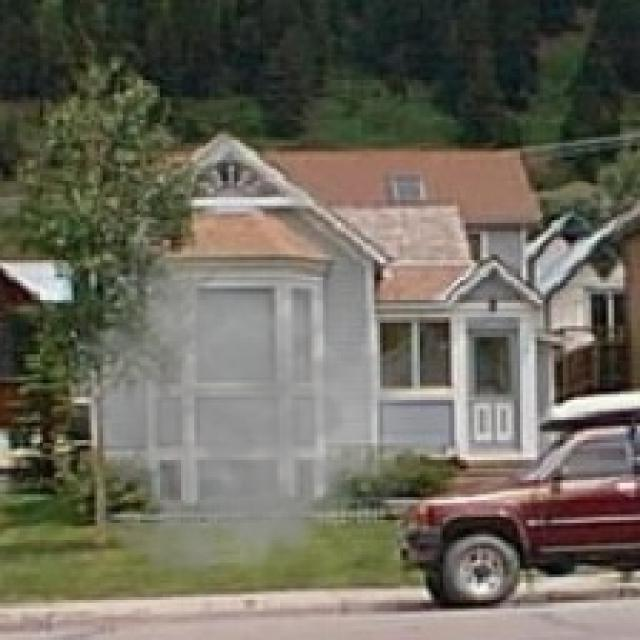Smoke: (57, 246, 429, 608)
